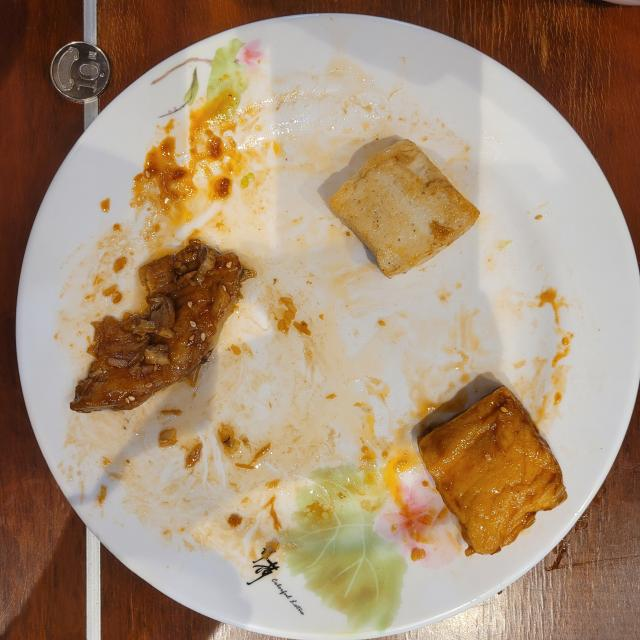Kabayaki sea bream fillet: (70, 240, 255, 412)
coin: (50, 41, 110, 102)
creamy tofu: (419, 386, 566, 555)
creamy tofu -without sauce-: (329, 139, 480, 278)
